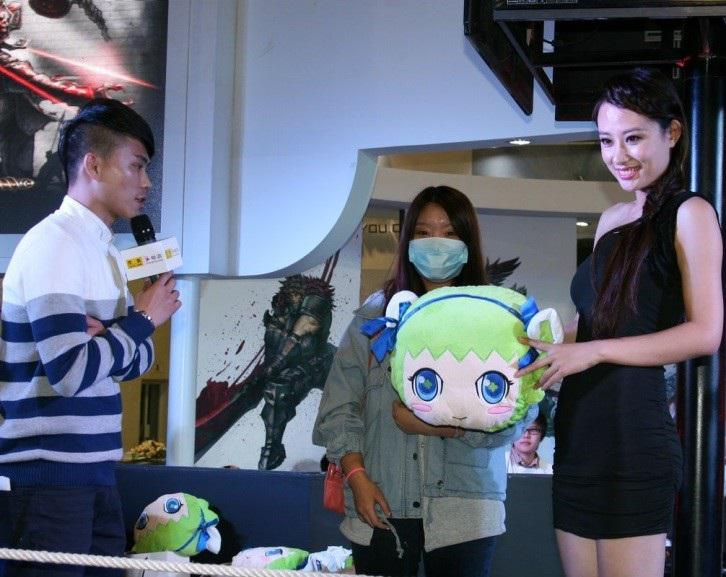NONE: (90, 144, 156, 215), (600, 121, 657, 191)
OK: (406, 215, 468, 277)
